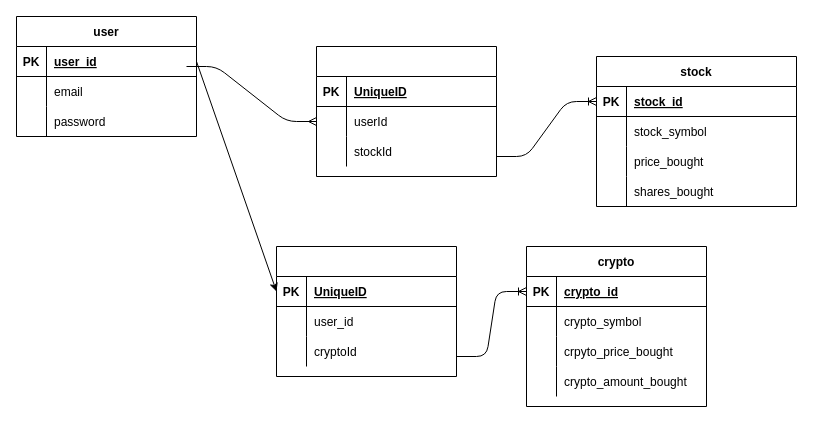
Image size: 813x423. Some labels were removed from this diagram. The box of each missing label's shape, as (x1, y1, x2, y2) in pixels:
users_cryptos: (276, 246, 456, 376)
users_stocks: (316, 46, 496, 176)
